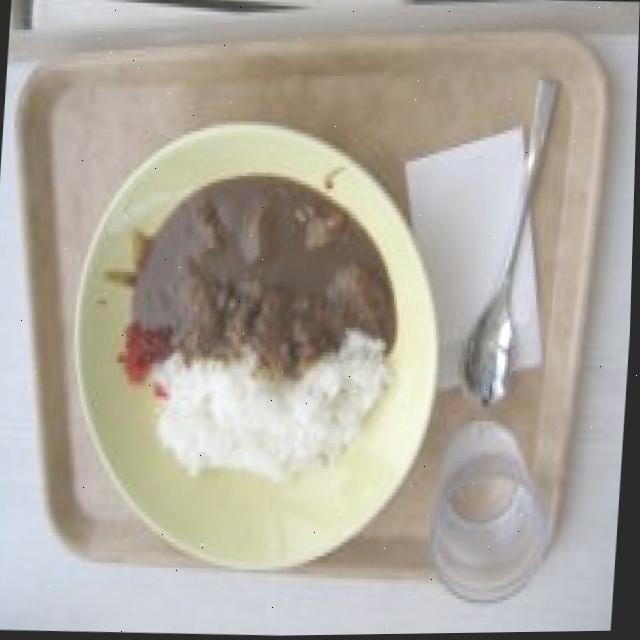牛肉菜式: (62, 122, 463, 593)
